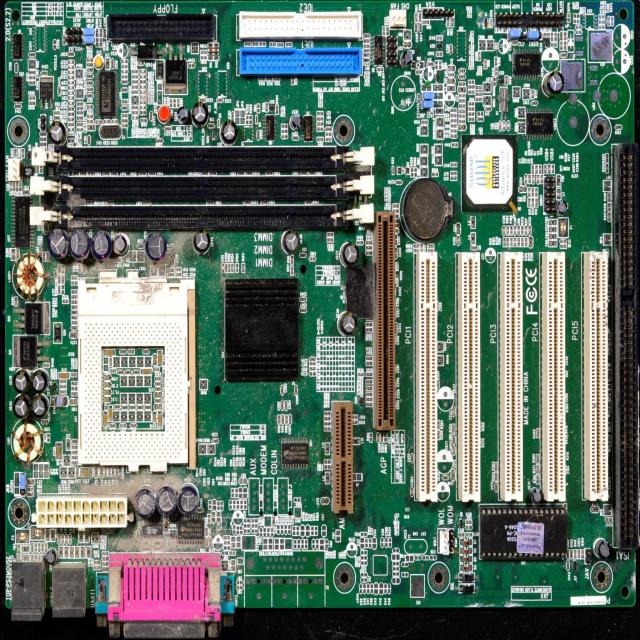Capacitor: (320, 497, 330, 504), (359, 538, 365, 549), (373, 583, 379, 594), (456, 222, 461, 235), (70, 398, 78, 406), (528, 236, 533, 248), (591, 505, 599, 512), (519, 185, 526, 193), (456, 235, 461, 246), (403, 41, 412, 47), (44, 222, 48, 235), (362, 584, 367, 594), (372, 536, 376, 548), (368, 536, 372, 548), (387, 582, 391, 594), (448, 66, 456, 72), (120, 68, 128, 74), (447, 78, 455, 84), (458, 125, 466, 131), (528, 225, 532, 237), (299, 251, 307, 257), (308, 256, 316, 262), (26, 480, 35, 485), (604, 516, 613, 521), (418, 23, 423, 32), (566, 561, 570, 572), (379, 583, 383, 594), (506, 119, 510, 130), (58, 388, 65, 394), (430, 554, 437, 560), (121, 58, 128, 64), (102, 28, 106, 38), (308, 371, 316, 376), (294, 385, 298, 395), (376, 432, 380, 442), (452, 434, 456, 444), (449, 44, 453, 54), (26, 492, 34, 497), (465, 524, 473, 529), (67, 51, 75, 56), (365, 584, 370, 592), (458, 68, 466, 73), (57, 85, 61, 95), (484, 106, 492, 111), (316, 121, 324, 126), (498, 120, 502, 130), (256, 130, 260, 140), (220, 263, 224, 273), (280, 401, 284, 410), (284, 402, 288, 411), (423, 554, 429, 560), (29, 70, 35, 76), (149, 111, 153, 120), (502, 121, 506, 130), (524, 175, 528, 184), (502, 224, 505, 236), (309, 356, 316, 361), (60, 379, 67, 384), (415, 555, 422, 560), (86, 57, 93, 62), (363, 57, 370, 62), (189, 62, 196, 67), (121, 64, 128, 69), (86, 81, 93, 86), (14, 104, 21, 109), (395, 180, 402, 185), (281, 414, 284, 425), (411, 452, 414, 463), (280, 386, 284, 394), (426, 62, 434, 66), (40, 71, 48, 75), (447, 72, 455, 76), (458, 74, 466, 78), (530, 102, 538, 106), (140, 118, 148, 122), (86, 120, 94, 124), (450, 134, 458, 138), (291, 136, 299, 140), (513, 226, 517, 234), (524, 226, 528, 234), (298, 297, 306, 301), (53, 40, 56, 50), (452, 446, 455, 456), (359, 582, 362, 592), (138, 60, 144, 65), (140, 69, 146, 74), (87, 73, 93, 78), (68, 90, 74, 95), (417, 93, 420, 103), (140, 100, 146, 105), (87, 104, 93, 109), (548, 164, 551, 174), (366, 239, 372, 244), (61, 284, 64, 294), (363, 34, 370, 38), (29, 52, 36, 56), (361, 577, 368, 581), (140, 80, 147, 84), (140, 85, 147, 89), (86, 94, 93, 98), (86, 114, 93, 118), (208, 124, 215, 128), (615, 125, 622, 129), (281, 134, 288, 138), (392, 204, 399, 208), (575, 25, 582, 29), (299, 308, 306, 312), (452, 407, 455, 416), (495, 482, 498, 491), (381, 537, 384, 546), (15, 63, 18, 72), (531, 90, 534, 99), (9, 182, 12, 191), (513, 238, 516, 247), (366, 250, 371, 255), (362, 572, 368, 576), (68, 65, 74, 69), (68, 70, 74, 74), (121, 74, 127, 78), (120, 80, 128, 83), (68, 80, 74, 84), (140, 90, 146, 94), (140, 95, 146, 99), (68, 95, 74, 99), (198, 99, 206, 102), (68, 101, 74, 105), (68, 107, 74, 111), (140, 110, 146, 114), (68, 112, 74, 116), (132, 116, 138, 120), (68, 117, 74, 121), (112, 120, 118, 124), (325, 126, 331, 130), (68, 128, 74, 132), (40, 132, 46, 136), (68, 138, 74, 142), (532, 176, 535, 184), (415, 24, 418, 32), (576, 30, 582, 34), (216, 98, 223, 101), (598, 20, 605, 23), (560, 239, 567, 242), (420, 244, 423, 251), (289, 414, 291, 424), (384, 537, 386, 547), (111, 58, 113, 68), (140, 75, 145, 79), (54, 116, 59, 120), (96, 120, 101, 124), (410, 487, 412, 496), (566, 549, 568, 558), (384, 583, 386, 592), (68, 60, 74, 63), (68, 76, 74, 79), (68, 86, 74, 89), (140, 105, 146, 108), (104, 119, 110, 122), (88, 135, 90, 144), (23, 190, 29, 193), (529, 188, 531, 197), (607, 16, 609, 25), (537, 175, 539, 183), (518, 226, 520, 234), (60, 385, 65, 388), (370, 584, 372, 591), (477, 118, 484, 120), (226, 263, 227, 271)
Connector: (58, 200, 374, 237), (100, 544, 218, 640), (613, 140, 640, 545), (48, 144, 373, 168), (52, 173, 370, 197), (538, 252, 566, 503), (456, 254, 483, 504), (498, 252, 524, 502), (582, 253, 608, 500), (417, 252, 438, 502), (376, 211, 395, 430), (38, 492, 130, 537), (237, 48, 359, 76), (238, 14, 366, 38), (112, 13, 210, 42), (331, 400, 354, 513)
IC: (478, 504, 566, 562), (11, 196, 34, 248), (95, 72, 118, 118), (282, 436, 309, 468), (526, 108, 553, 140), (512, 50, 539, 79), (370, 551, 390, 579), (454, 31, 468, 62), (371, 35, 385, 66), (11, 32, 25, 61), (262, 115, 276, 141), (302, 116, 315, 143), (40, 76, 52, 105), (197, 71, 210, 97), (410, 574, 425, 596), (215, 72, 229, 95), (12, 76, 24, 101), (583, 14, 597, 28)
Resistor Network: (56, 440, 62, 460), (483, 59, 488, 69), (290, 254, 295, 264), (42, 362, 50, 368), (457, 531, 465, 537), (275, 104, 279, 116), (598, 24, 606, 30), (493, 472, 498, 481), (241, 263, 246, 272), (284, 414, 288, 425), (489, 17, 493, 28), (465, 518, 472, 524), (200, 54, 207, 60), (450, 128, 457, 134), (62, 298, 69, 304), (308, 361, 316, 366), (436, 35, 444, 40), (277, 414, 281, 424), (437, 420, 441, 430), (369, 432, 373, 442), (384, 432, 388, 442), (359, 530, 367, 535), (436, 52, 444, 57), (580, 549, 584, 559), (458, 118, 466, 123), (21, 148, 25, 158), (530, 165, 535, 173), (414, 12, 418, 22), (509, 226, 513, 236), (326, 237, 334, 242), (366, 390, 372, 396), (62, 35, 66, 44), (366, 401, 372, 407), (536, 428, 540, 437), (535, 455, 539, 464), (388, 537, 392, 546), (576, 549, 580, 558), (573, 550, 577, 559), (169, 98, 173, 107), (468, 110, 474, 116), (317, 116, 323, 122), (325, 136, 331, 142), (604, 164, 608, 173), (418, 13, 422, 22), (534, 164, 538, 173), (544, 164, 548, 173), (538, 164, 542, 173), (446, 18, 450, 27), (428, 242, 434, 248), (235, 263, 239, 272), (290, 266, 294, 275), (57, 285, 61, 294), (324, 421, 331, 426), (324, 459, 331, 464), (86, 62, 93, 67), (377, 67, 384, 72), (475, 85, 482, 90), (281, 124, 288, 129), (164, 126, 171, 131), (471, 245, 478, 250), (47, 431, 50, 442), (70, 380, 78, 384), (70, 386, 78, 390), (323, 416, 331, 420), (27, 487, 35, 491), (465, 532, 473, 536), (86, 87, 94, 91), (28, 96, 36, 100), (316, 138, 324, 142), (13, 149, 17, 157), (534, 188, 538, 196), (520, 226, 524, 234), (326, 232, 334, 236), (506, 238, 510, 246), (60, 274, 64, 282), (381, 26, 385, 34), (324, 410, 330, 415), (352, 414, 358, 419), (324, 425, 330, 430), (437, 430, 440, 440), (536, 474, 539, 484), (478, 51, 481, 61), (494, 56, 497, 66), (87, 67, 93, 72), (132, 69, 138, 74), (266, 76, 272, 81), (274, 76, 280, 81), (132, 79, 138, 84), (29, 80, 35, 85), (458, 81, 464, 86), (458, 97, 464, 102), (173, 97, 176, 107), (468, 106, 474, 111), (459, 108, 465, 113), (230, 112, 233, 122), (452, 143, 458, 148), (573, 13, 579, 18), (528, 174, 531, 184), (532, 198, 535, 208), (573, 18, 579, 23), (357, 240, 363, 245), (366, 327, 372, 332), (70, 372, 77, 376), (365, 386, 372, 390), (363, 39, 370, 43), (363, 44, 370, 48), (363, 49, 370, 53), (200, 50, 207, 54), (475, 97, 482, 101), (29, 100, 36, 104), (450, 108, 457, 112), (477, 112, 484, 116), (450, 114, 457, 118), (449, 118, 456, 122), (421, 120, 428, 124), (281, 130, 288, 134), (450, 162, 457, 166), (551, 165, 555, 172), (450, 170, 457, 174), (432, 172, 439, 176), (96, 37, 99, 46), (452, 424, 455, 433), (435, 60, 438, 69), (495, 67, 498, 76), (177, 99, 180, 108), (414, 167, 417, 176), (410, 168, 413, 177), (567, 13, 570, 22), (19, 182, 22, 191), (611, 16, 614, 25), (517, 237, 520, 246), (58, 274, 61, 283), (386, 27, 389, 36), (353, 419, 358, 424), (366, 361, 372, 365), (358, 372, 364, 376), (366, 380, 372, 384), (324, 465, 330, 469), (495, 463, 498, 471), (132, 74, 138, 78), (29, 76, 35, 80), (505, 76, 508, 84), (291, 76, 294, 84), (132, 85, 138, 89), (132, 90, 138, 94), (475, 92, 481, 96), (459, 94, 465, 98), (468, 101, 474, 105), (458, 104, 464, 108), (132, 105, 138, 109), (265, 104, 268, 112), (132, 110, 138, 114), (53, 110, 59, 114), (317, 112, 323, 116), (459, 114, 465, 118), (468, 117, 474, 121), (249, 115, 252, 123), (246, 116, 249, 124), (68, 122, 74, 126), (450, 123, 456, 127), (317, 128, 323, 132), (40, 137, 46, 141), (40, 142, 46, 146), (450, 177, 458, 180), (12, 182, 15, 190), (535, 198, 538, 206), (450, 18, 453, 26), (521, 238, 524, 246), (560, 244, 566, 248), (366, 246, 372, 250), (227, 264, 230, 272), (96, 29, 99, 37), (99, 29, 102, 37), (257, 103, 259, 113), (608, 192, 610, 202), (414, 244, 419, 248), (428, 248, 433, 252), (414, 248, 419, 252), (366, 322, 371, 326), (310, 366, 316, 369), (366, 372, 372, 375), (536, 464, 538, 473), (364, 53, 370, 56), (439, 60, 441, 69), (258, 77, 264, 80), (326, 133, 332, 136), (606, 153, 608, 162), (540, 175, 542, 184), (528, 198, 530, 207), (608, 212, 610, 221), (525, 237, 527, 246), (503, 238, 505, 247), (381, 433, 383, 441), (570, 549, 572, 557), (532, 188, 534, 196), (608, 203, 610, 211), (506, 226, 508, 234), (510, 238, 512, 246), (231, 263, 233, 271), (366, 357, 371, 360), (72, 392, 77, 395), (598, 16, 605, 18), (367, 398, 372, 400)
Transistor: (18, 301, 50, 334), (12, 335, 40, 368), (165, 58, 188, 94), (243, 127, 253, 142), (52, 380, 58, 390), (255, 116, 260, 126), (458, 520, 463, 528), (498, 77, 503, 85), (28, 150, 32, 160), (217, 118, 220, 130), (269, 106, 275, 111), (437, 44, 442, 48)
